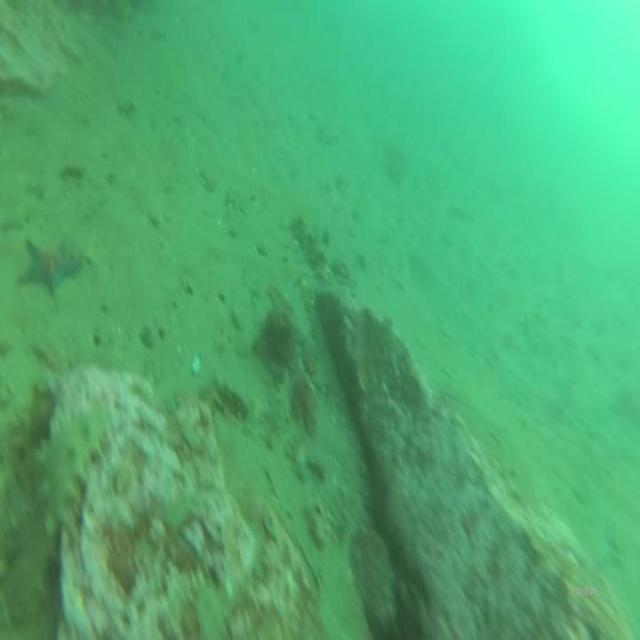holothurian: (29, 400, 111, 545)
starfish: (20, 234, 84, 300)
